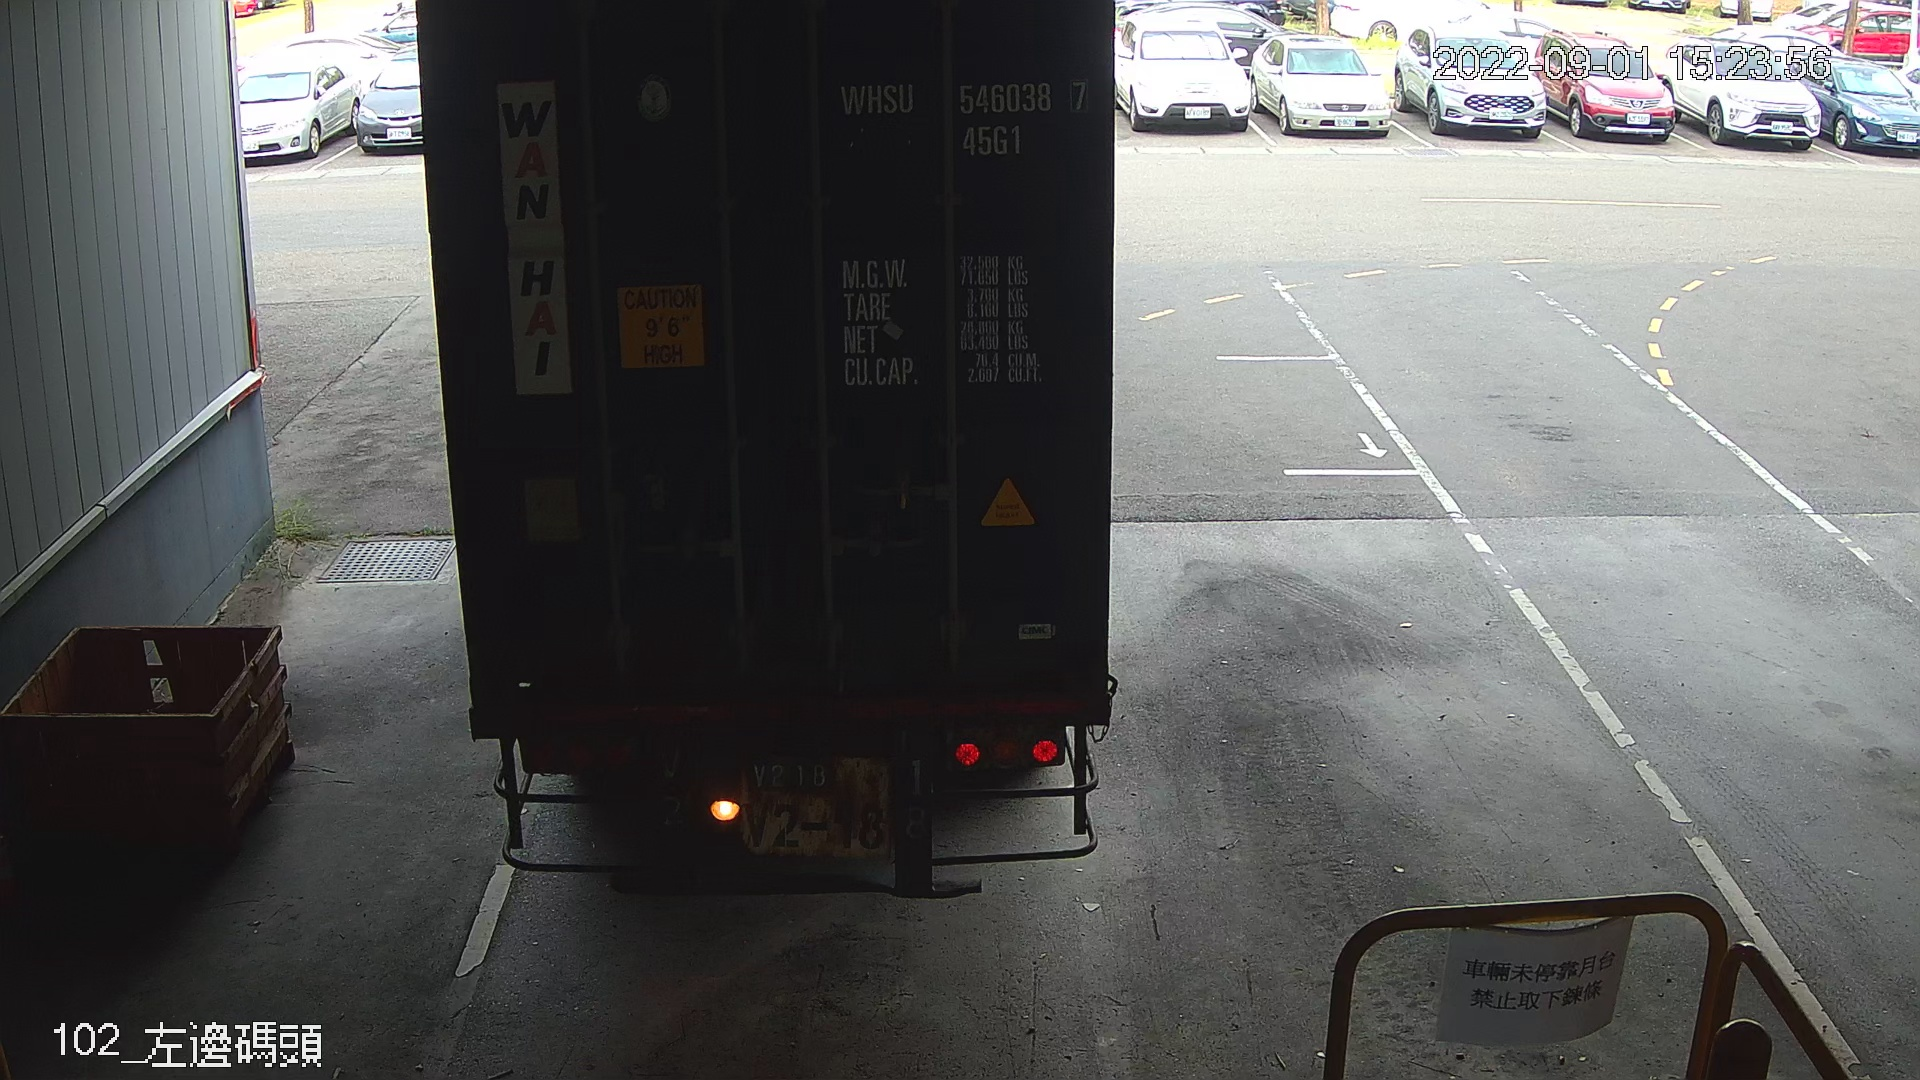container: (833, 67, 1104, 166)
